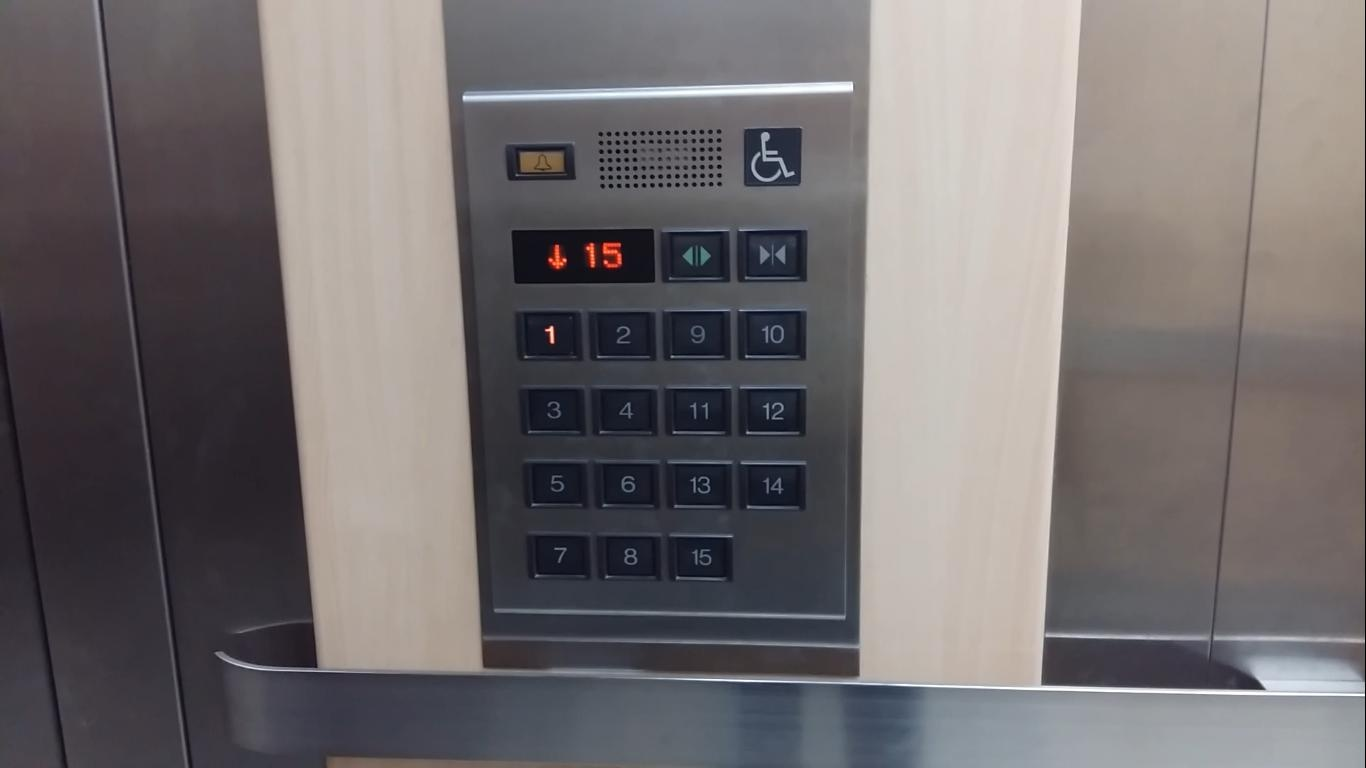1: (511, 304, 588, 361)
10: (734, 305, 807, 363)
11: (663, 381, 734, 440)
12: (737, 381, 808, 440)
13: (662, 455, 737, 512)
14: (733, 457, 808, 514)
15: (666, 530, 736, 583)
2: (586, 305, 659, 363)
3: (517, 381, 592, 438)
4: (590, 380, 661, 439)
5: (517, 454, 592, 511)
6: (589, 455, 664, 512)
7: (525, 527, 595, 580)
8: (594, 529, 664, 582)
9: (660, 304, 733, 362)
CH: (740, 123, 805, 190)
alarm: (499, 139, 580, 180)
close: (734, 226, 811, 283)
led: (508, 225, 660, 286)
open: (658, 227, 735, 284)
